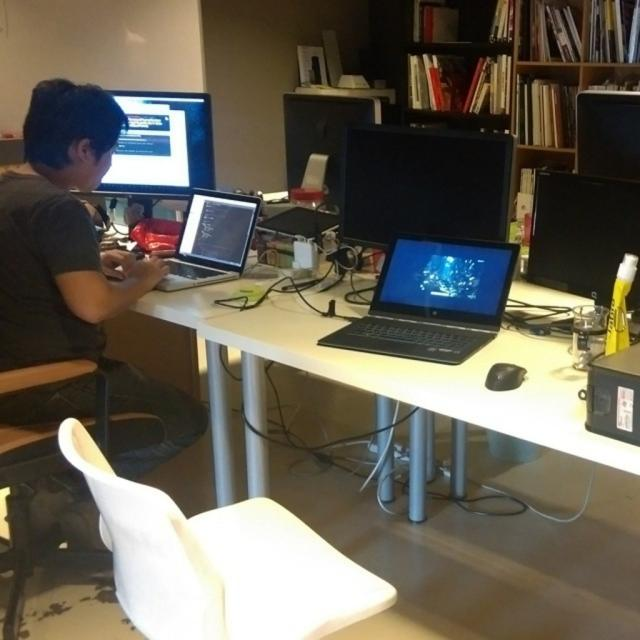chair: (54, 416, 401, 640)
desk: (203, 270, 639, 508)
laptop: (316, 232, 522, 367), (152, 188, 262, 294)
mouse: (484, 362, 528, 392)
person: (0, 80, 208, 468)
tv: (338, 124, 516, 250), (524, 172, 639, 306), (95, 90, 216, 198)
